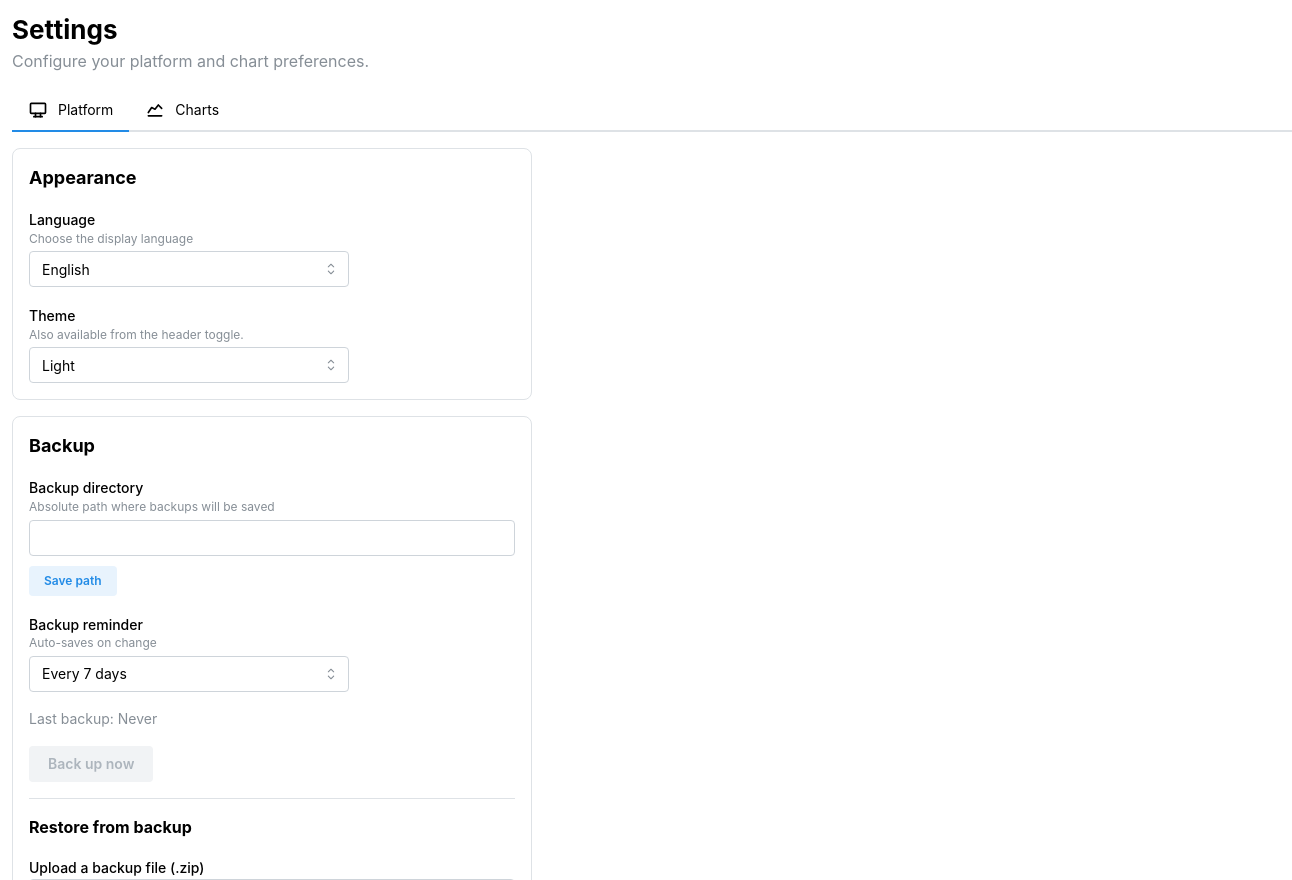
SettingsPage › shows the Charts tab content after switching (API key field visible)
Click the tab "Charts".
click(182, 111)  # box [129, 90, 235, 132]
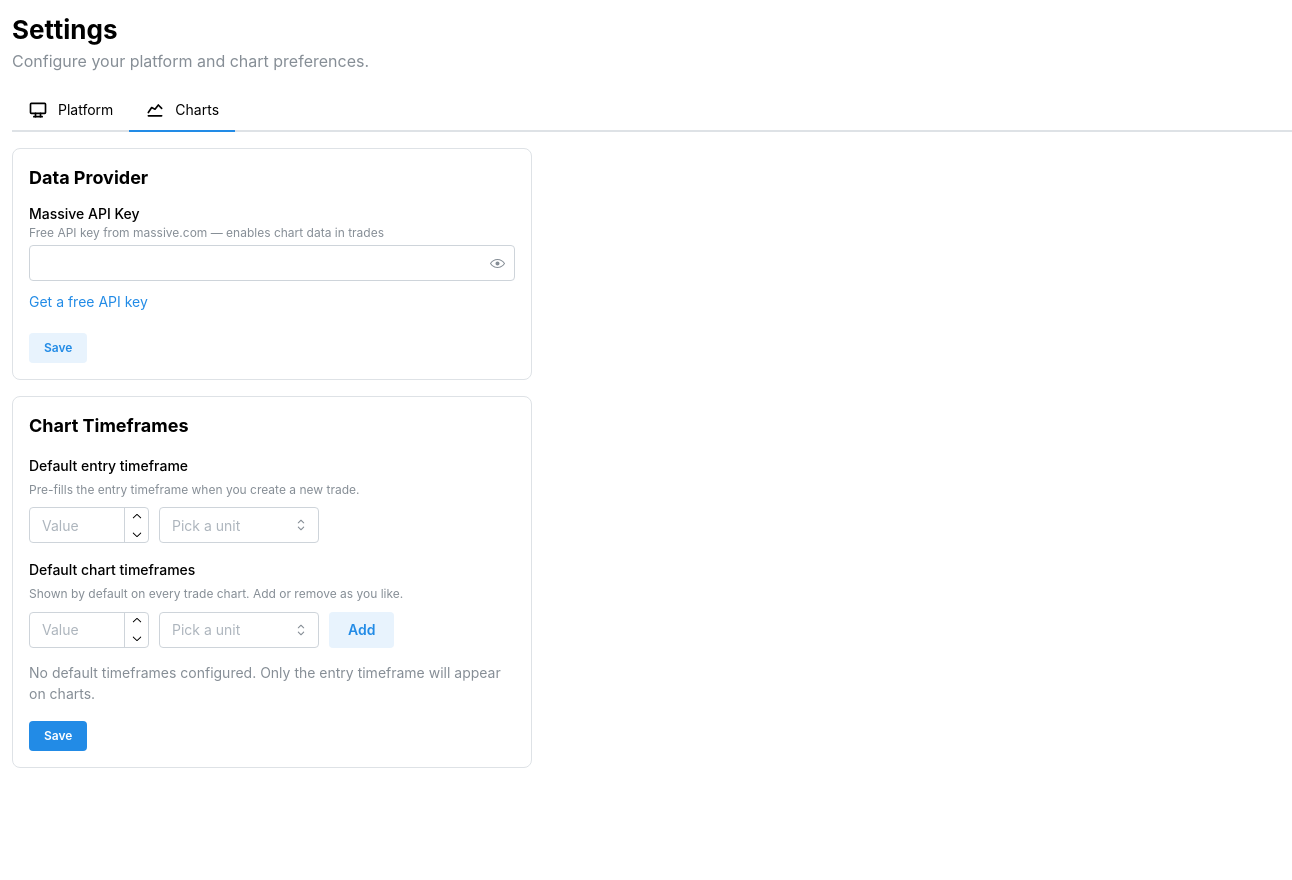
Result: the password field labelled "Massive API Key" is shown at [30, 246, 514, 280]
